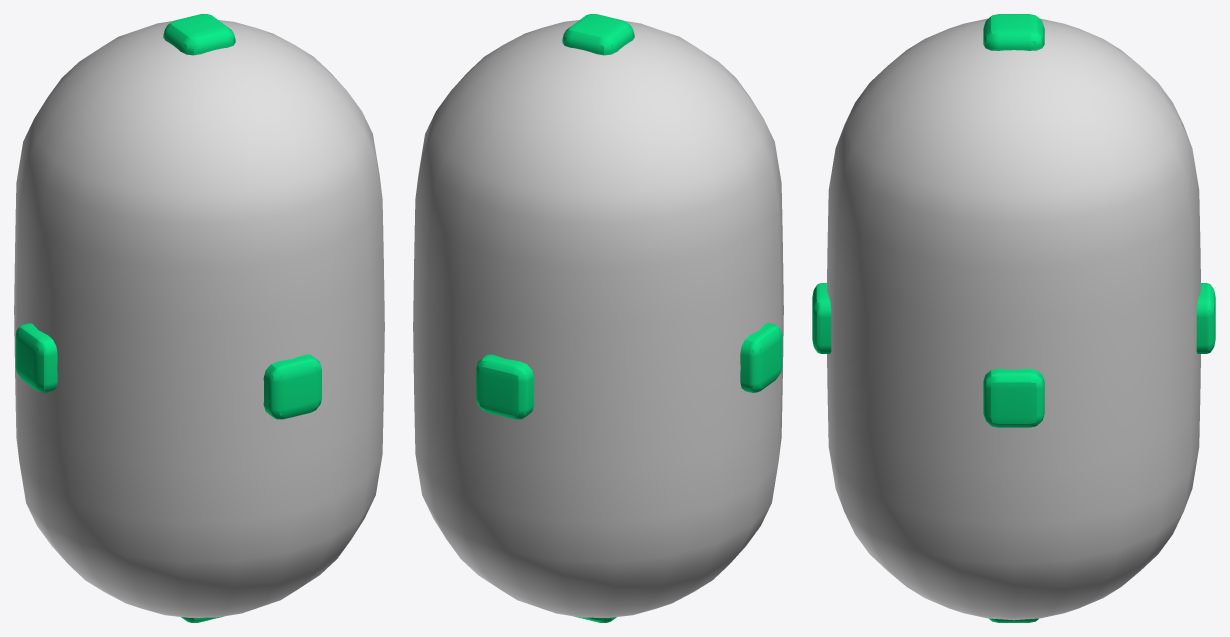
File: Ultraleap_Capsule_Interactable.fbx
3 views of the same model, side by side, from view 1: azimuth 30°, elevation 25°; view 2: azimuth 150°, elevation 25°; view 3: azimuth 270°, elevation 25° (orthographic).
Visible parts, largest first — view 1: UHI_Capsule_Interactable, UHI_Capsule_Interactable_Parts; view 2: UHI_Capsule_Interactable, UHI_Capsule_Interactable_Parts; view 3: UHI_Capsule_Interactable, UHI_Capsule_Interactable_Parts.
Boxes of the visible parts, x1,y1,x2,y2 form: UHI_Capsule_Interactable: (14,20,384,617); UHI_Capsule_Interactable_Parts: (15,14,321,622); UHI_Capsule_Interactable: (413,20,783,617); UHI_Capsule_Interactable_Parts: (476,14,782,622); UHI_Capsule_Interactable: (826,18,1201,620); UHI_Capsule_Interactable_Parts: (812,14,1215,622).
Size of the model in its own units: 0.6581 by 1.07 by 0.6581.
